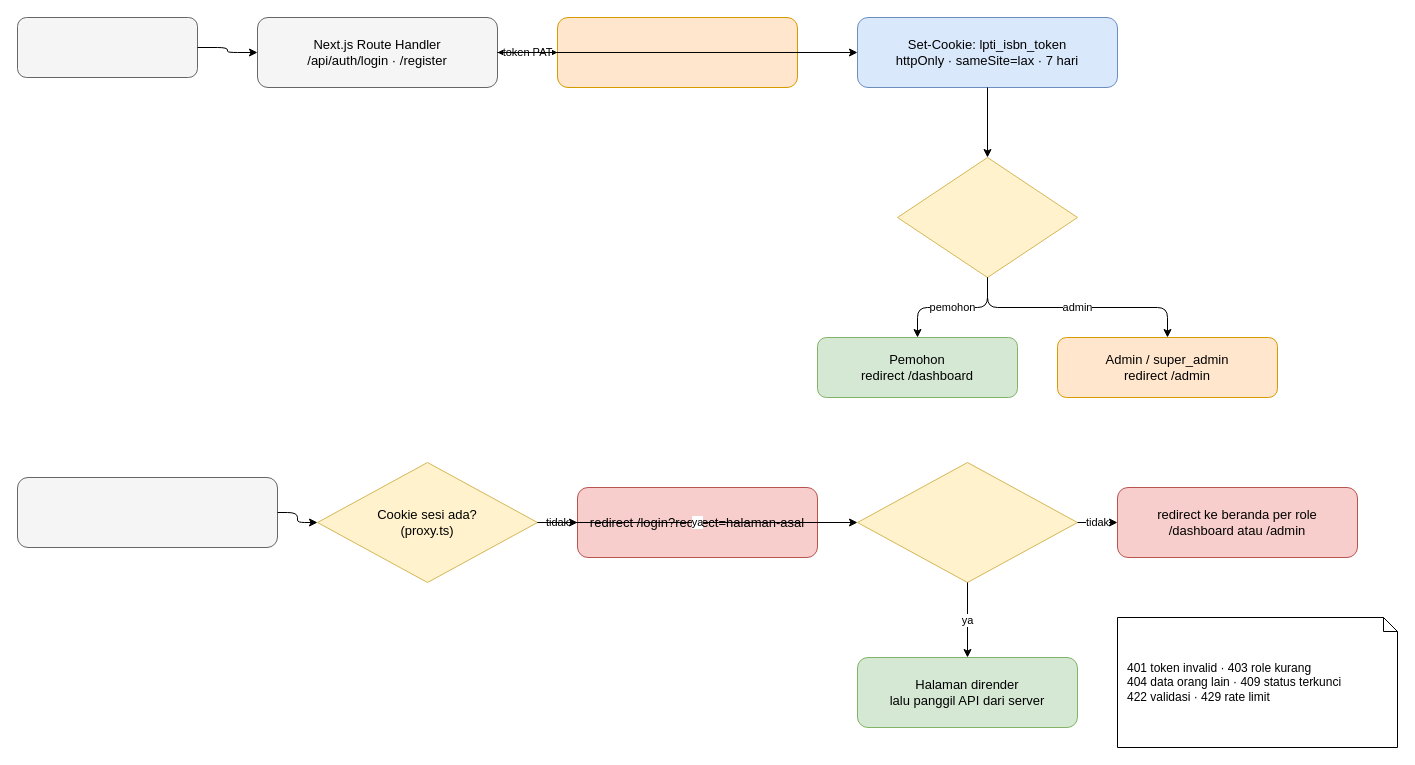
This 1415x765 diagram has some shape labels left out. Here are the shapes that lost their labels. From the top down, the box of each, then its label:
(16, 16, 198, 78): Browser
(556, 16, 798, 88): Laravel API POST /api/v1/login · /register
(896, 156, 1078, 278): Role?
(16, 476, 278, 548): Buka halaman terproteksi /dashboard · /pengajuan · /profil · /admin
(856, 462, 1078, 582): Role sesuai area? (lib/auth.ts)
